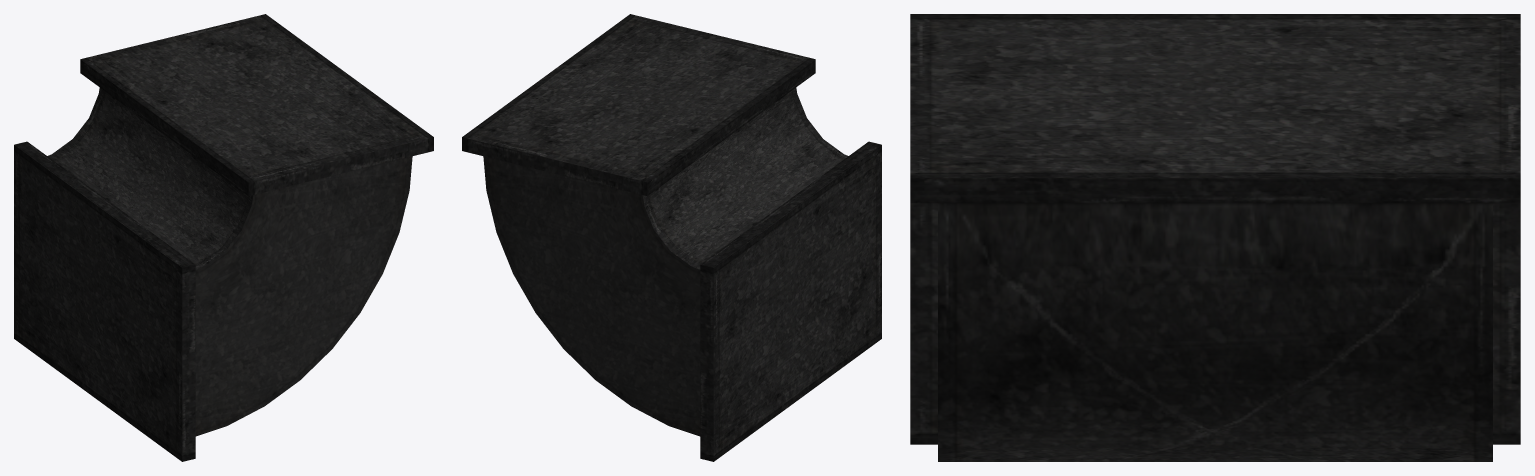
Rendered from p6_duct_rect_sml_vert_90_white_lod0.glb.
The picture shows the model from 3 angles, left to right: view 1: azimuth 30°, elevation 25°; view 2: azimuth 150°, elevation 25°; view 3: azimuth 270°, elevation 25°; orthographic projection. The views are drawn at different scales.
Parts seen in each view (by area): view 1: surf0, surf1; view 2: surf0, surf1; view 3: surf0.
Boxes of the visible parts, bbox=[...] form: surf0: bbox=[14, 14, 433, 461]; surf1: bbox=[195, 156, 412, 436]; surf0: bbox=[462, 14, 881, 461]; surf1: bbox=[483, 156, 700, 436]; surf0: bbox=[910, 14, 1520, 461].
Size of the model in its own units: 19 by 19 by 22.
